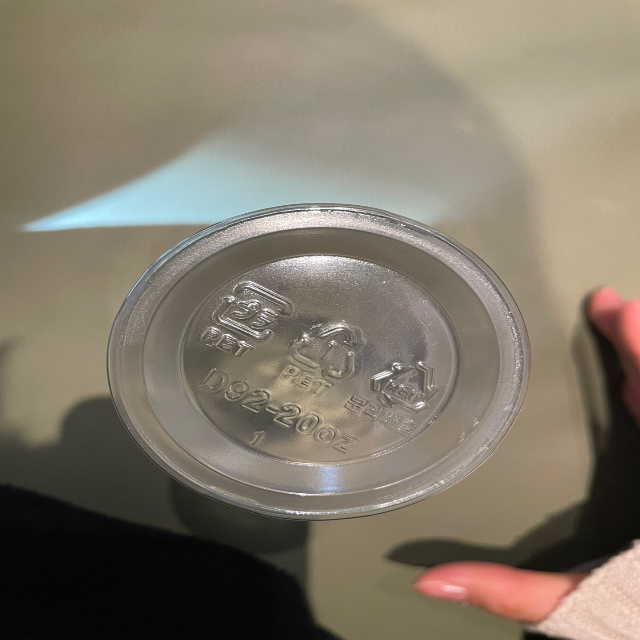pet: (196, 276, 296, 366), (346, 359, 442, 444), (277, 317, 362, 403)
